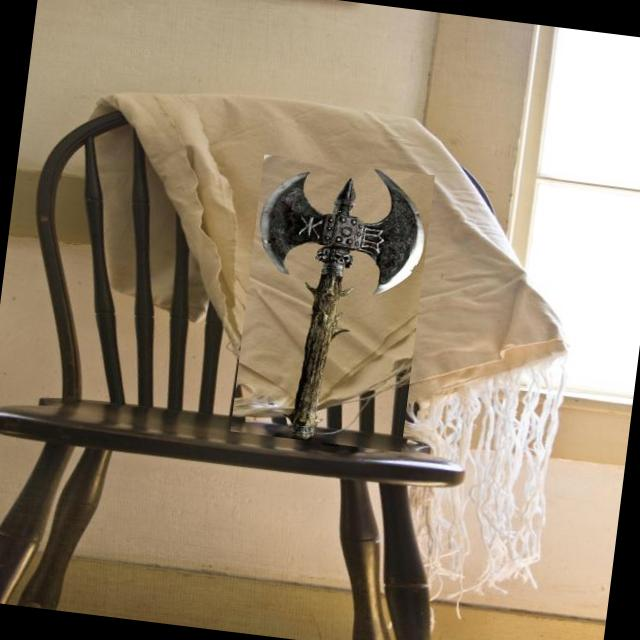Axe: (255, 169, 424, 438)
